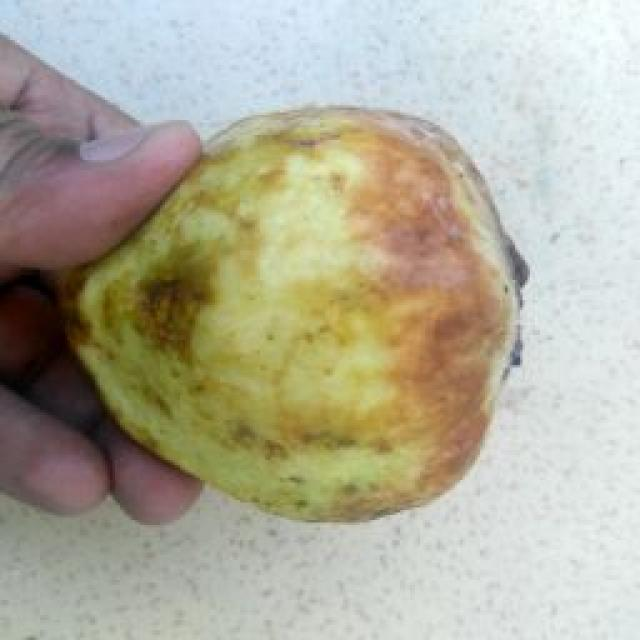Bad_Guava: (62, 108, 526, 519)
